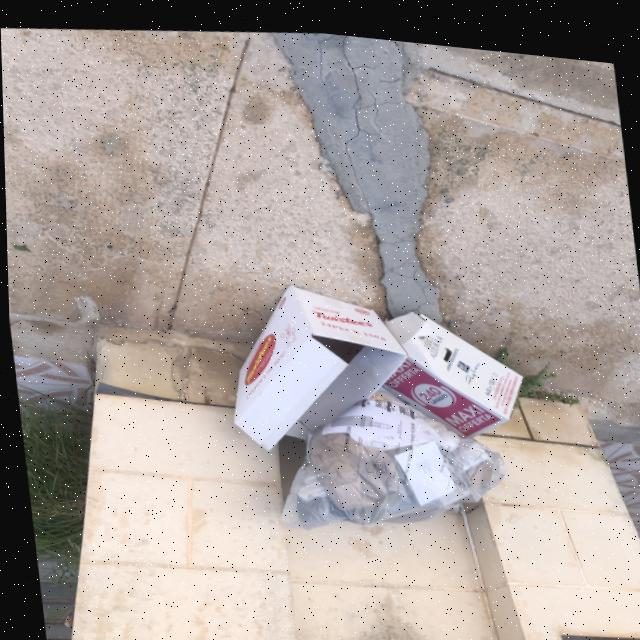Other: (214, 261, 415, 461), (371, 290, 527, 439)
Recycled Waste -Grey or Green Bag-: (260, 359, 511, 543)
